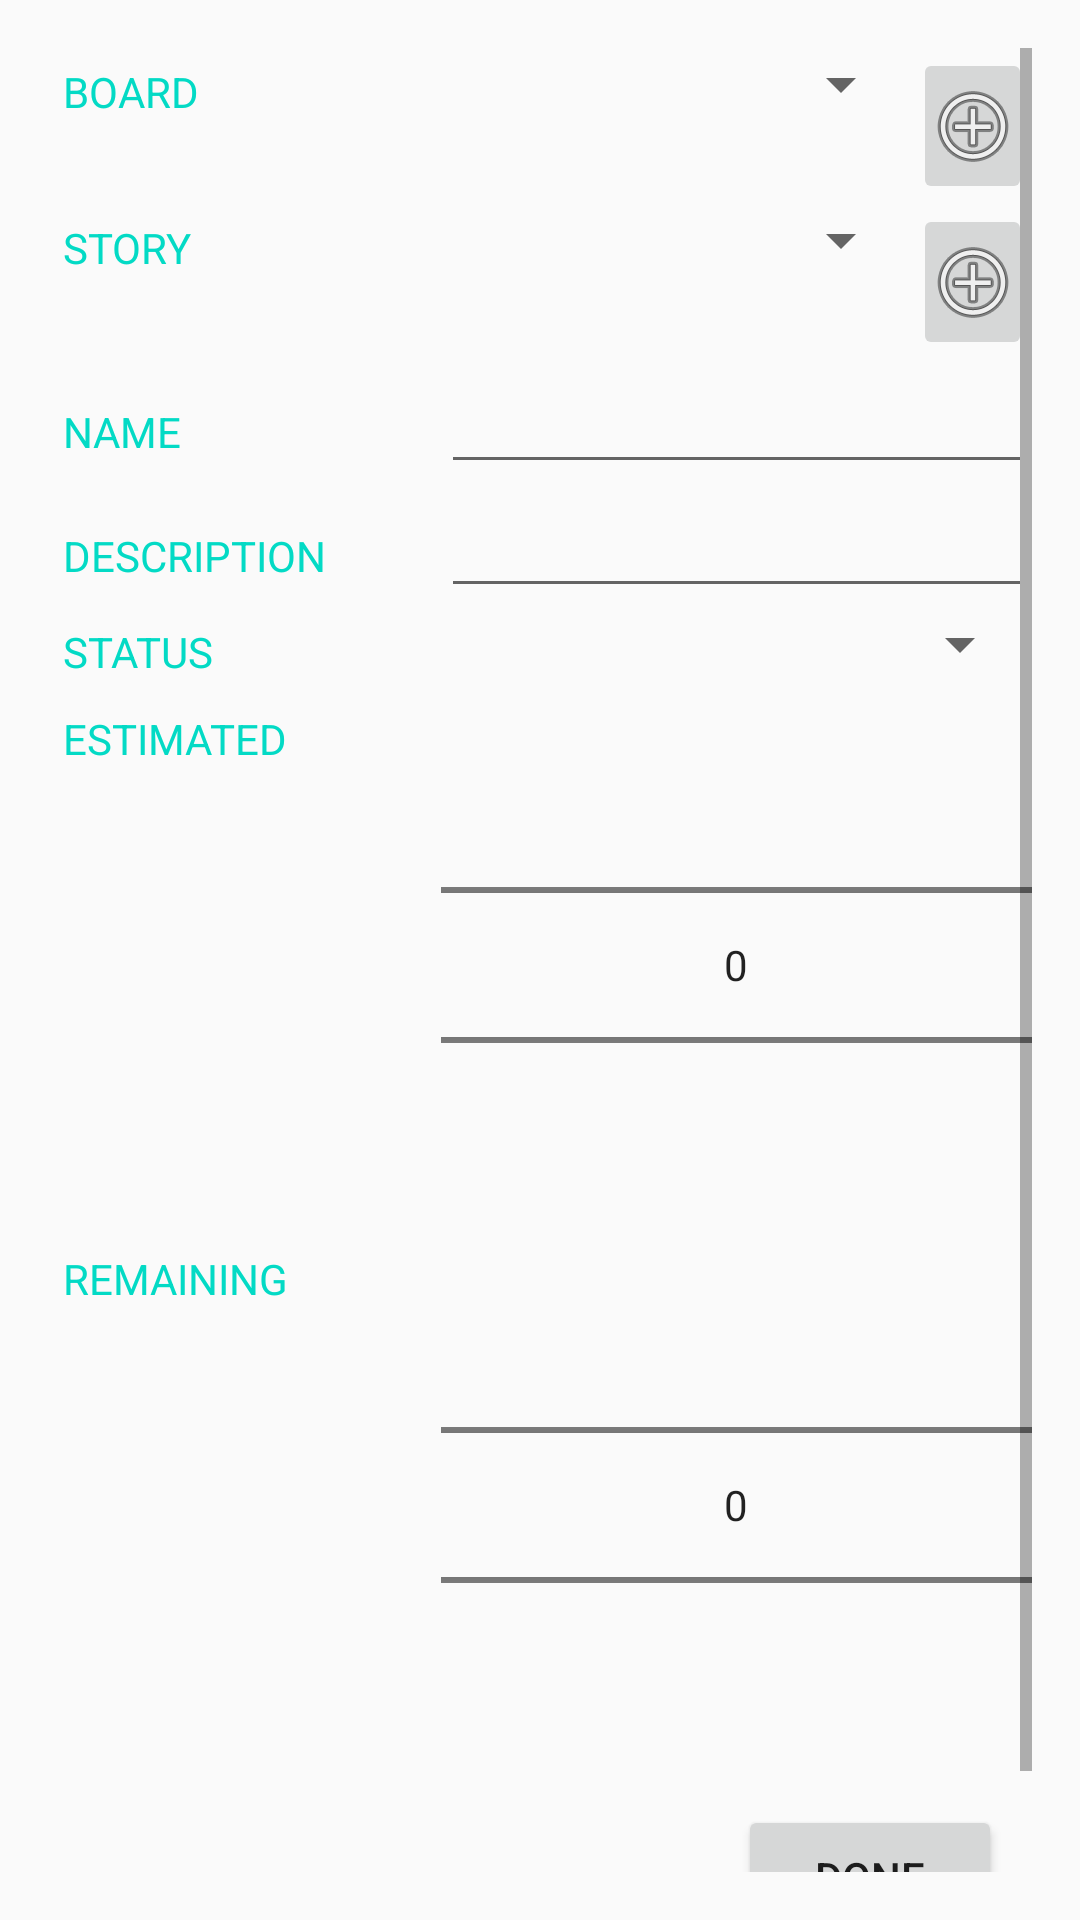

Where icons sit on this 1080x1920 app screen, as {"x1": x1, "y1": y1, "x2": x2, "y2": y2}:
add: {"x1": 925, "y1": 48, "x2": 1032, "y2": 204}, {"x1": 925, "y1": 204, "x2": 1032, "y2": 360}
